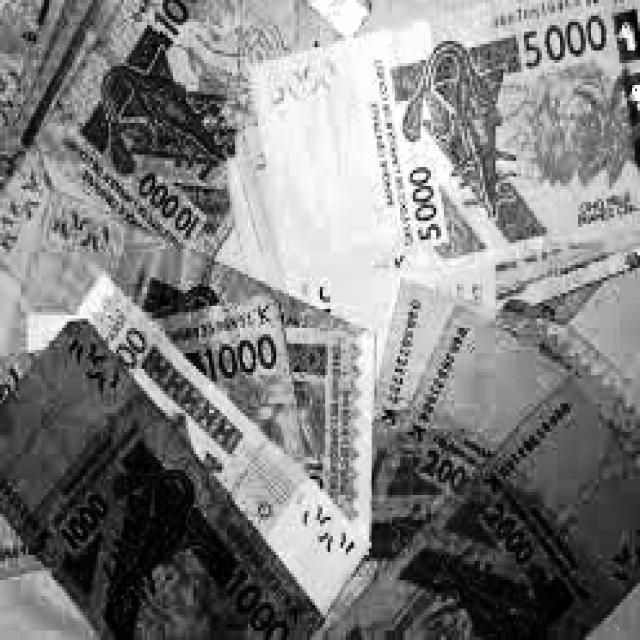junni: (229, 0, 640, 292)
niaar junni: (0, 0, 334, 275)
niaar teemeer: (0, 322, 320, 638), (81, 278, 365, 611), (278, 295, 371, 524), (164, 296, 294, 421)
nient teemeer: (323, 377, 640, 638)
